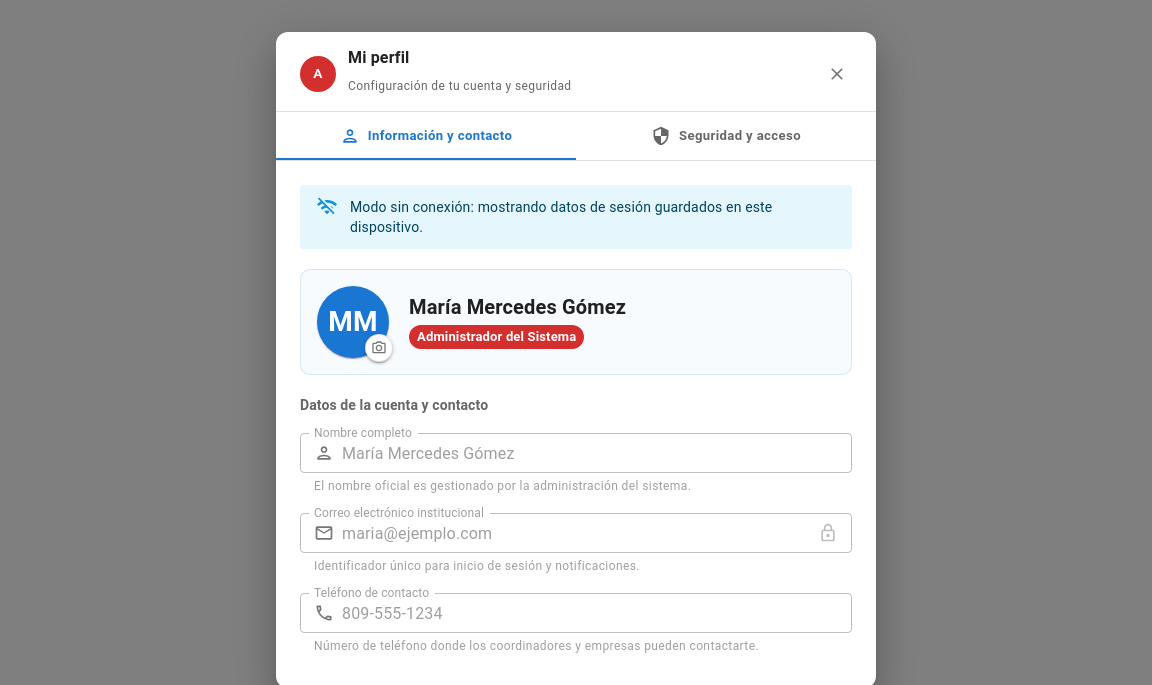
Test: DialogPerfil › en modo sin conexión, deshabilita el cambio de contraseña y muestra advertencia
Click the tab "Seguridad y acceso": (726, 136) [576,112,876,160]
(page scrolled)
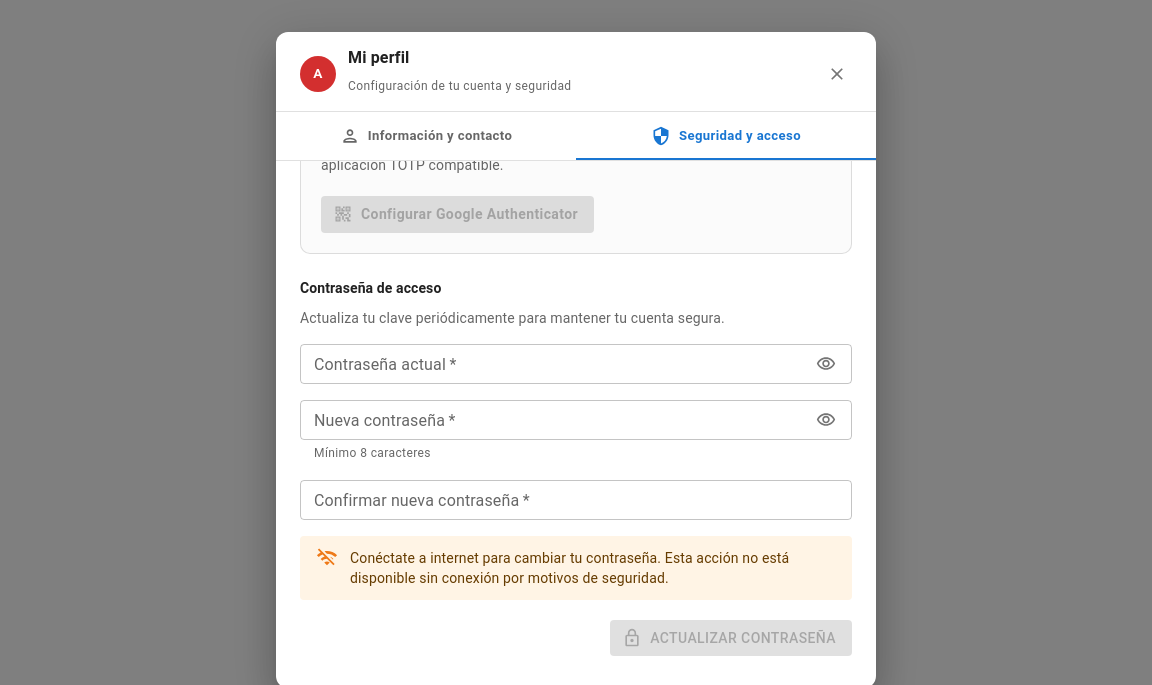
expect the text "Conéctate a internet para cambiar tu contraseña" is shown: met, box [350,550,789,586]
expect the button "Actualizar contraseña" is disabled: met, box [610,620,852,656]
